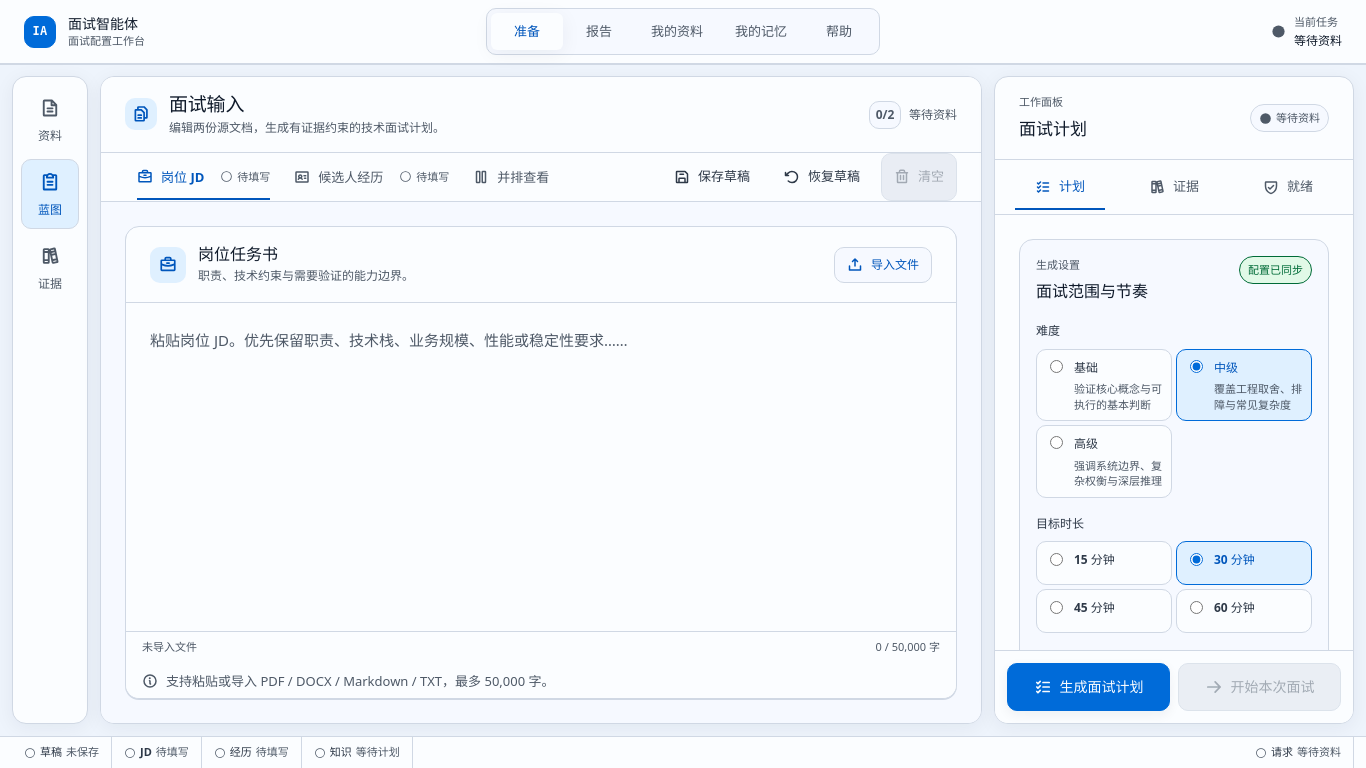
Test: StartPage editable plan workflow › keeps an unavailable confirmed item unselectable and can remove it safely
In the text box labelled "岗位 JD": x=541, y=467 [126,303,956,631], type "Backend role"
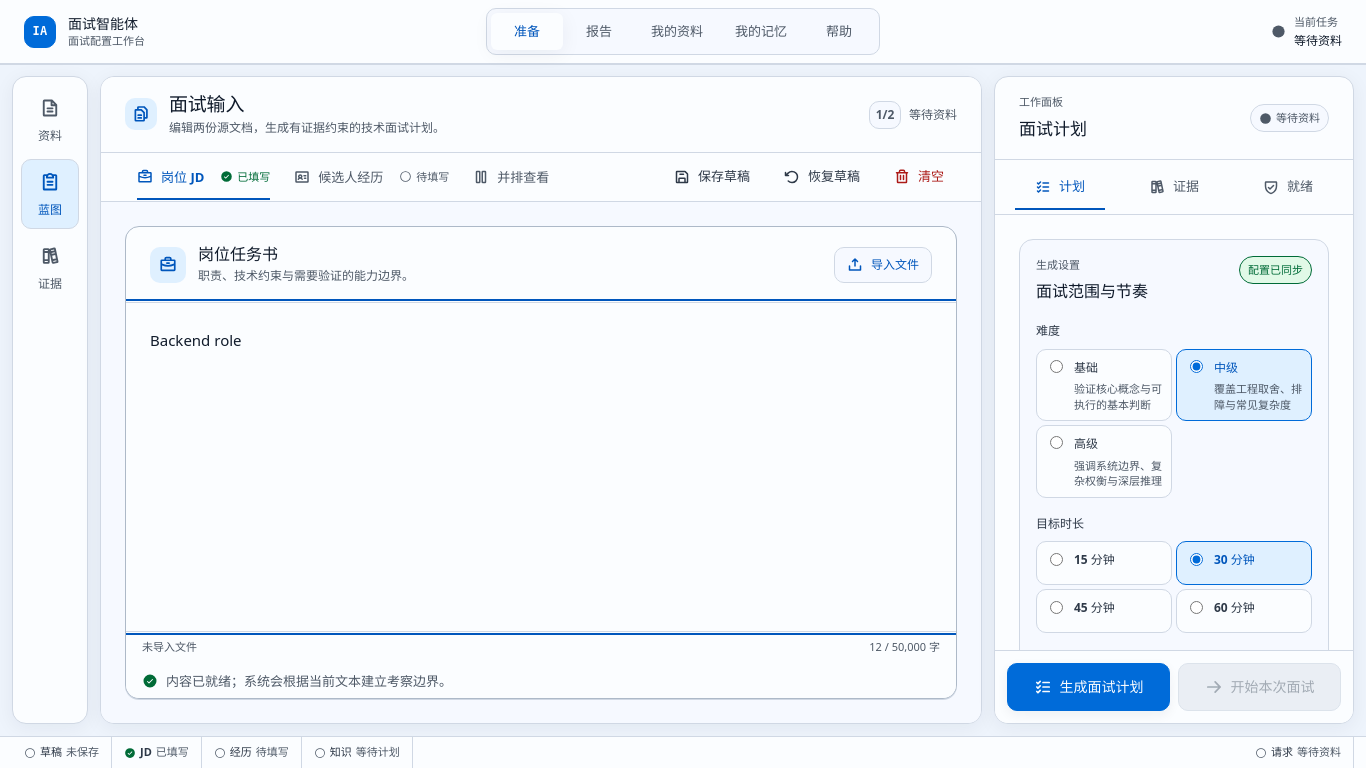
Click the tab "候选人经历 待填写": x=372, y=177 [282,154,461,200]
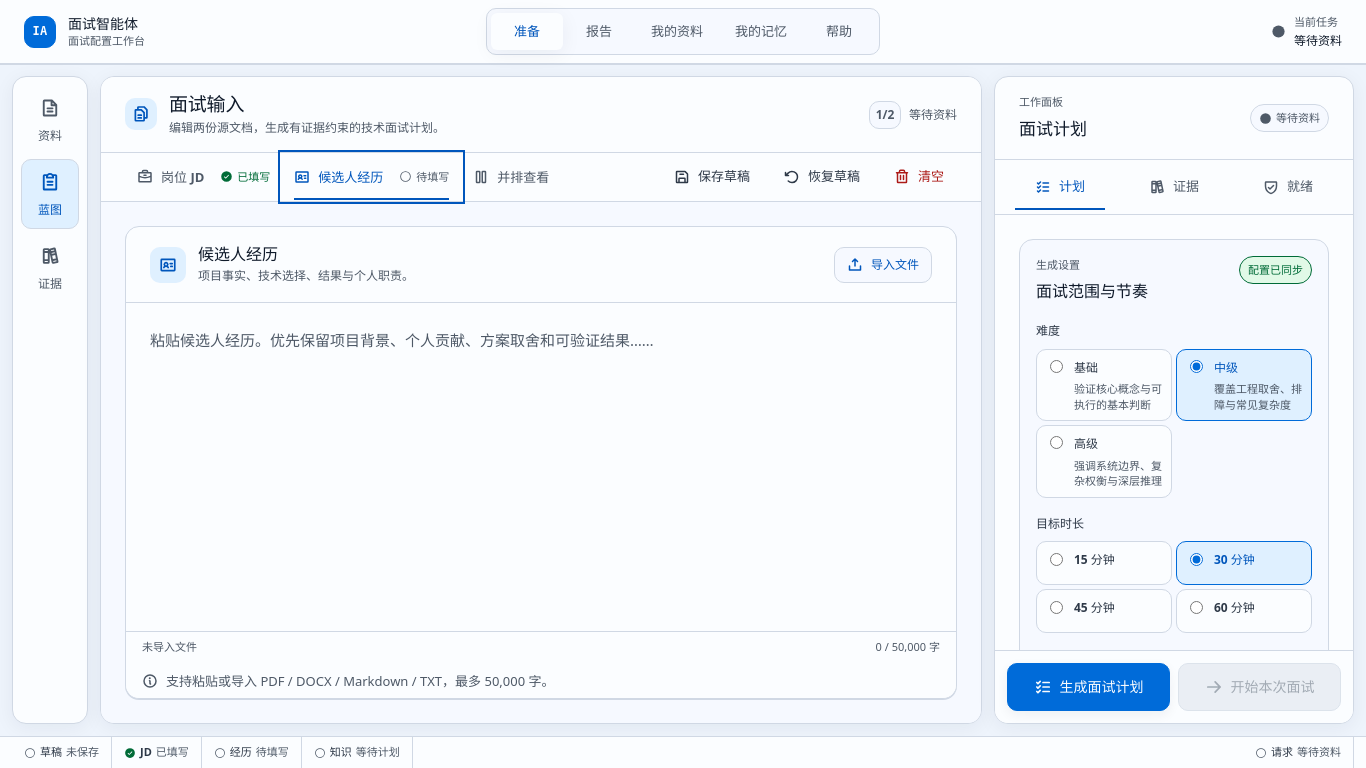
In the text box named "简历内容": x=541, y=467 [126,303,956,631], type "Backend resume"
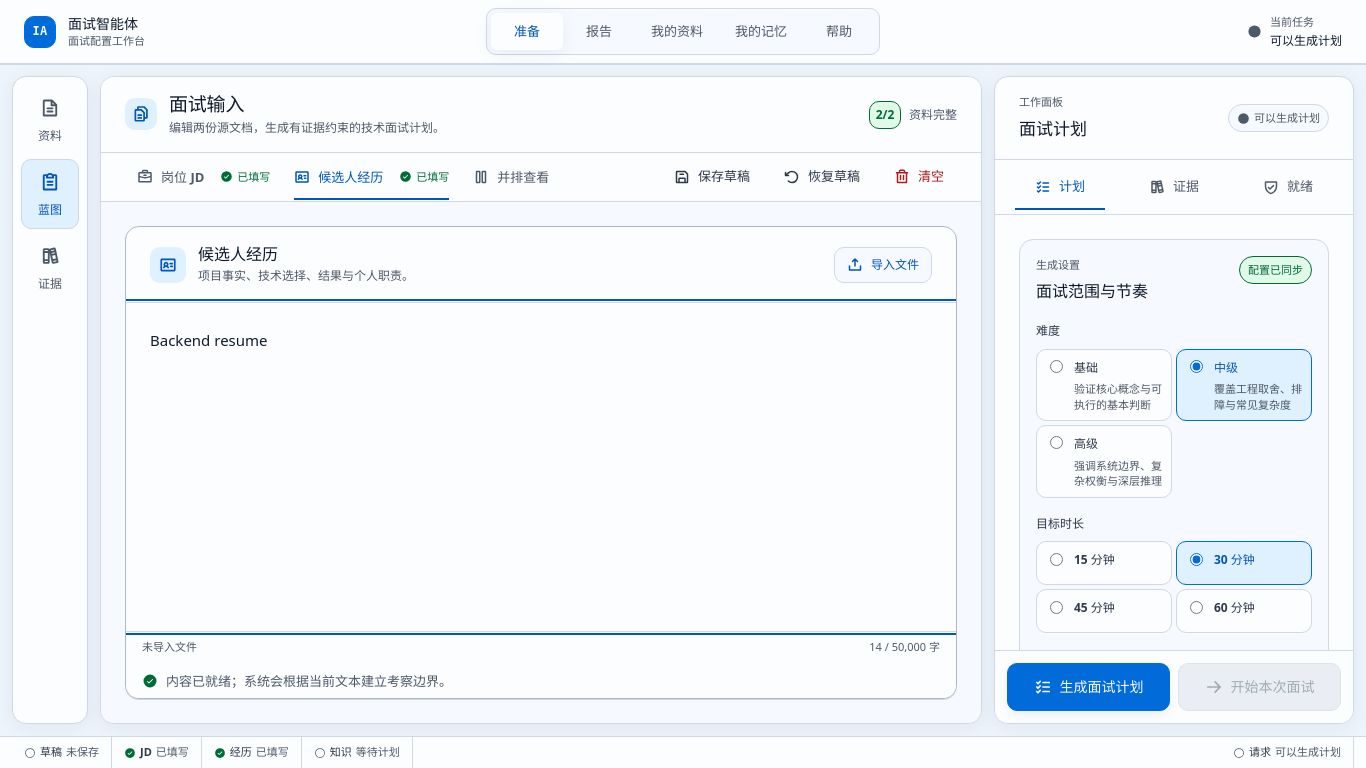
Click the button "生成面试计划": x=1088, y=687 [1007,663,1170,711]
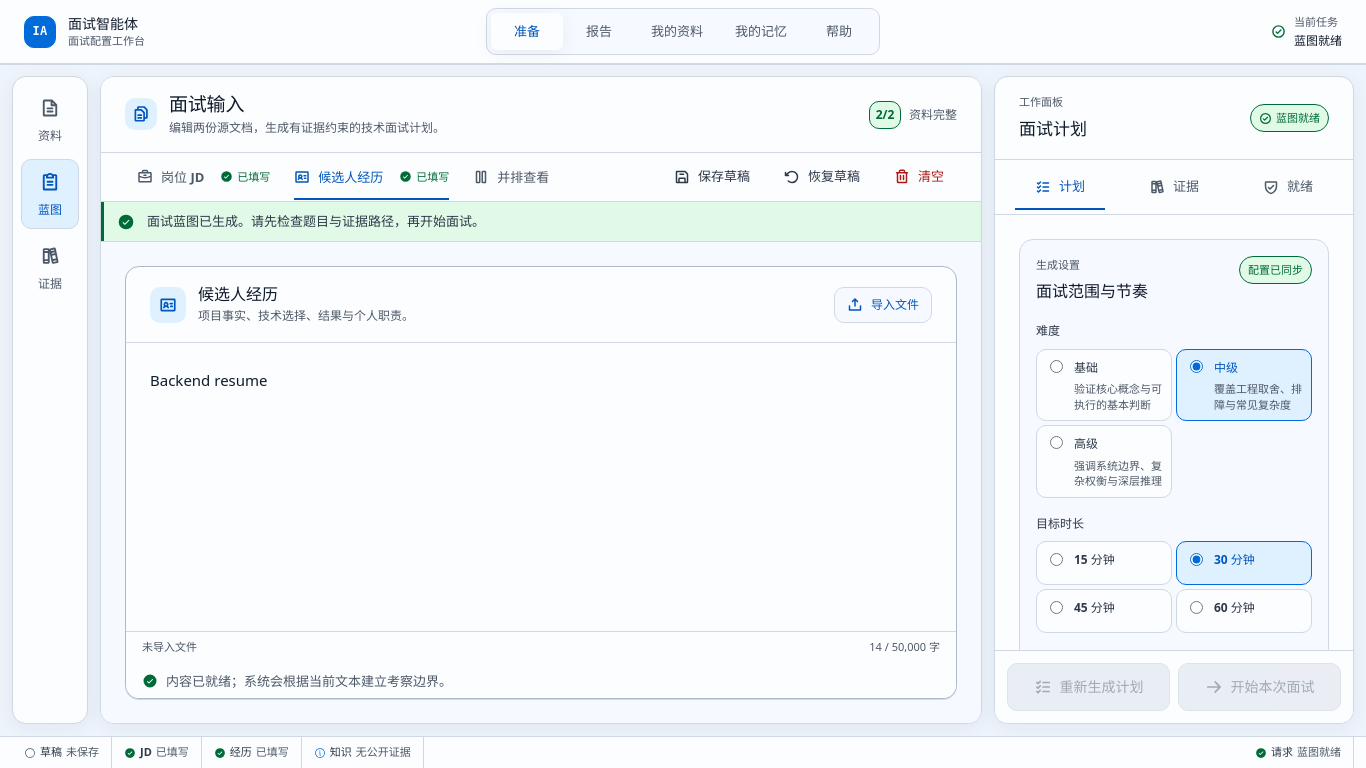
Click the tab "就绪": x=1288, y=187 [1231,164,1345,210]
(page scrolled)
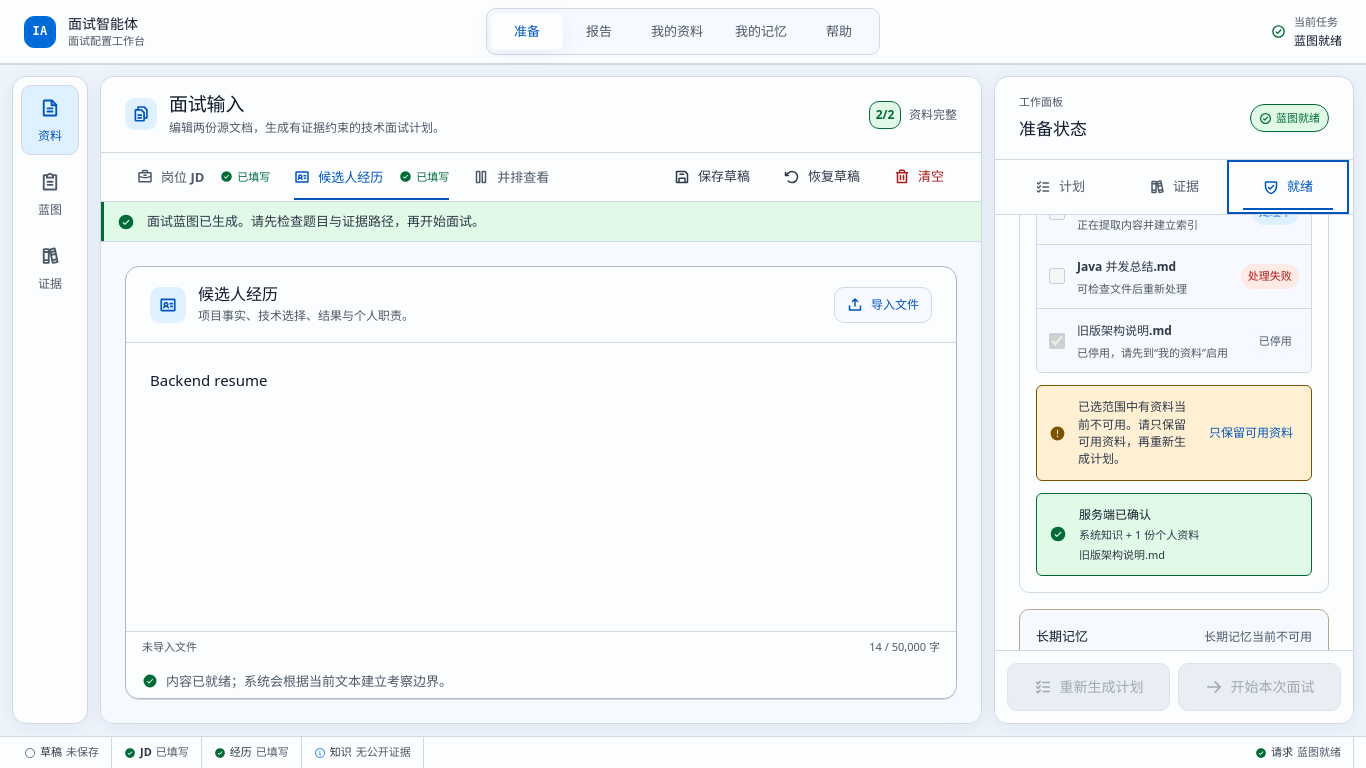
Expected: the button "开始本次面试" is disabled, [1178,663,1341,711]
Expected: the checkbox labelled "旧版架构说明.md 已停用，请先到“我的资料”启用 已停用" is checked, [1049,333,1065,349]
Expected: the checkbox labelled "旧版架构说明.md 已停用，请先到“我的资料”启用 已停用" is disabled, [1049,333,1065,349]
Click the button "只保留可用资料": x=1251, y=433 [1203,409,1299,457]
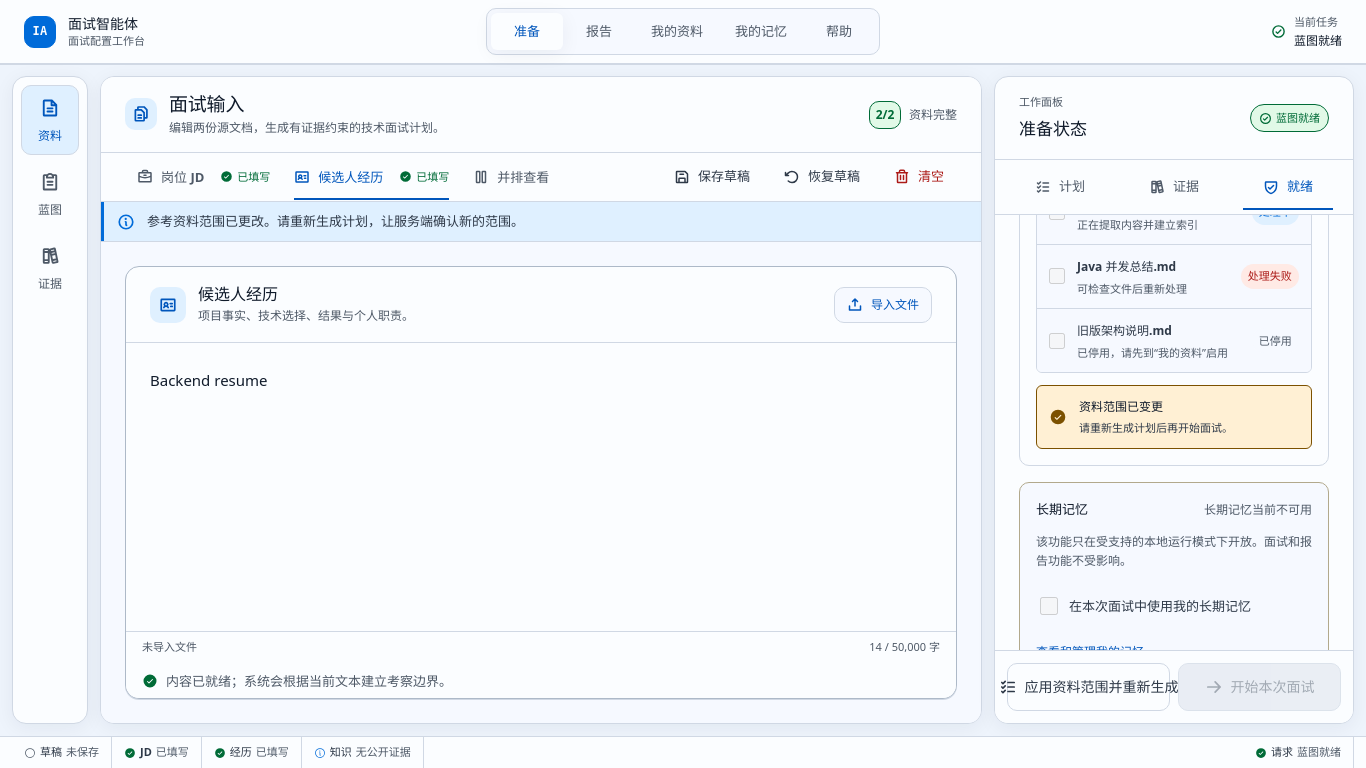
Expected: the checkbox labelled "旧版架构说明.md 已停用，请先到“我的资料”启用 已停用" is not checked, [1049,333,1065,349]
Expected: the text "资料范围已变更" is shown, [1079,398,1163,415]
